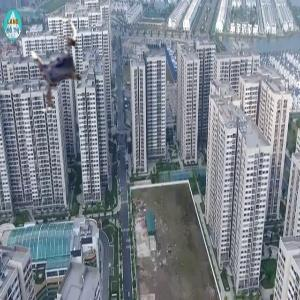drone: (12, 21, 107, 116)
